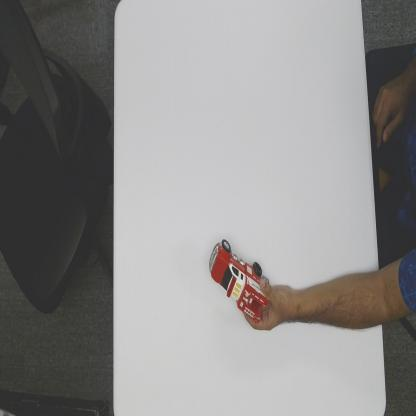Firetruck: (207, 236, 270, 324)
Hand: (271, 248, 416, 334)
